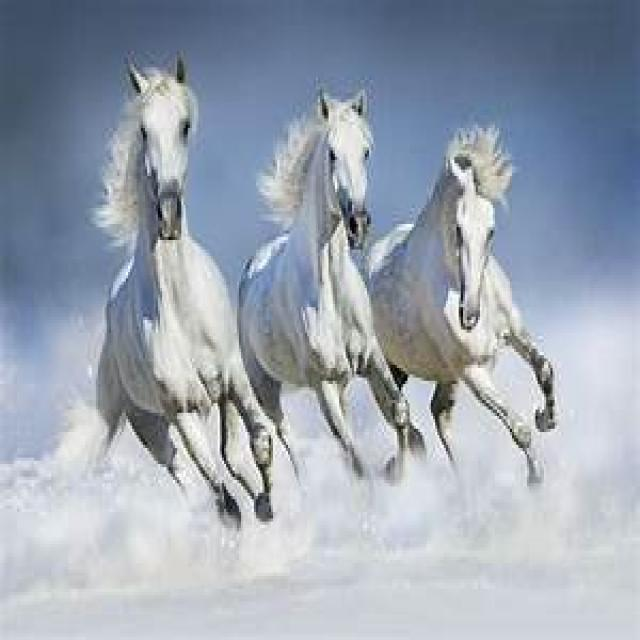horse: (90, 58, 275, 525), (241, 93, 414, 474), (361, 128, 557, 451)
